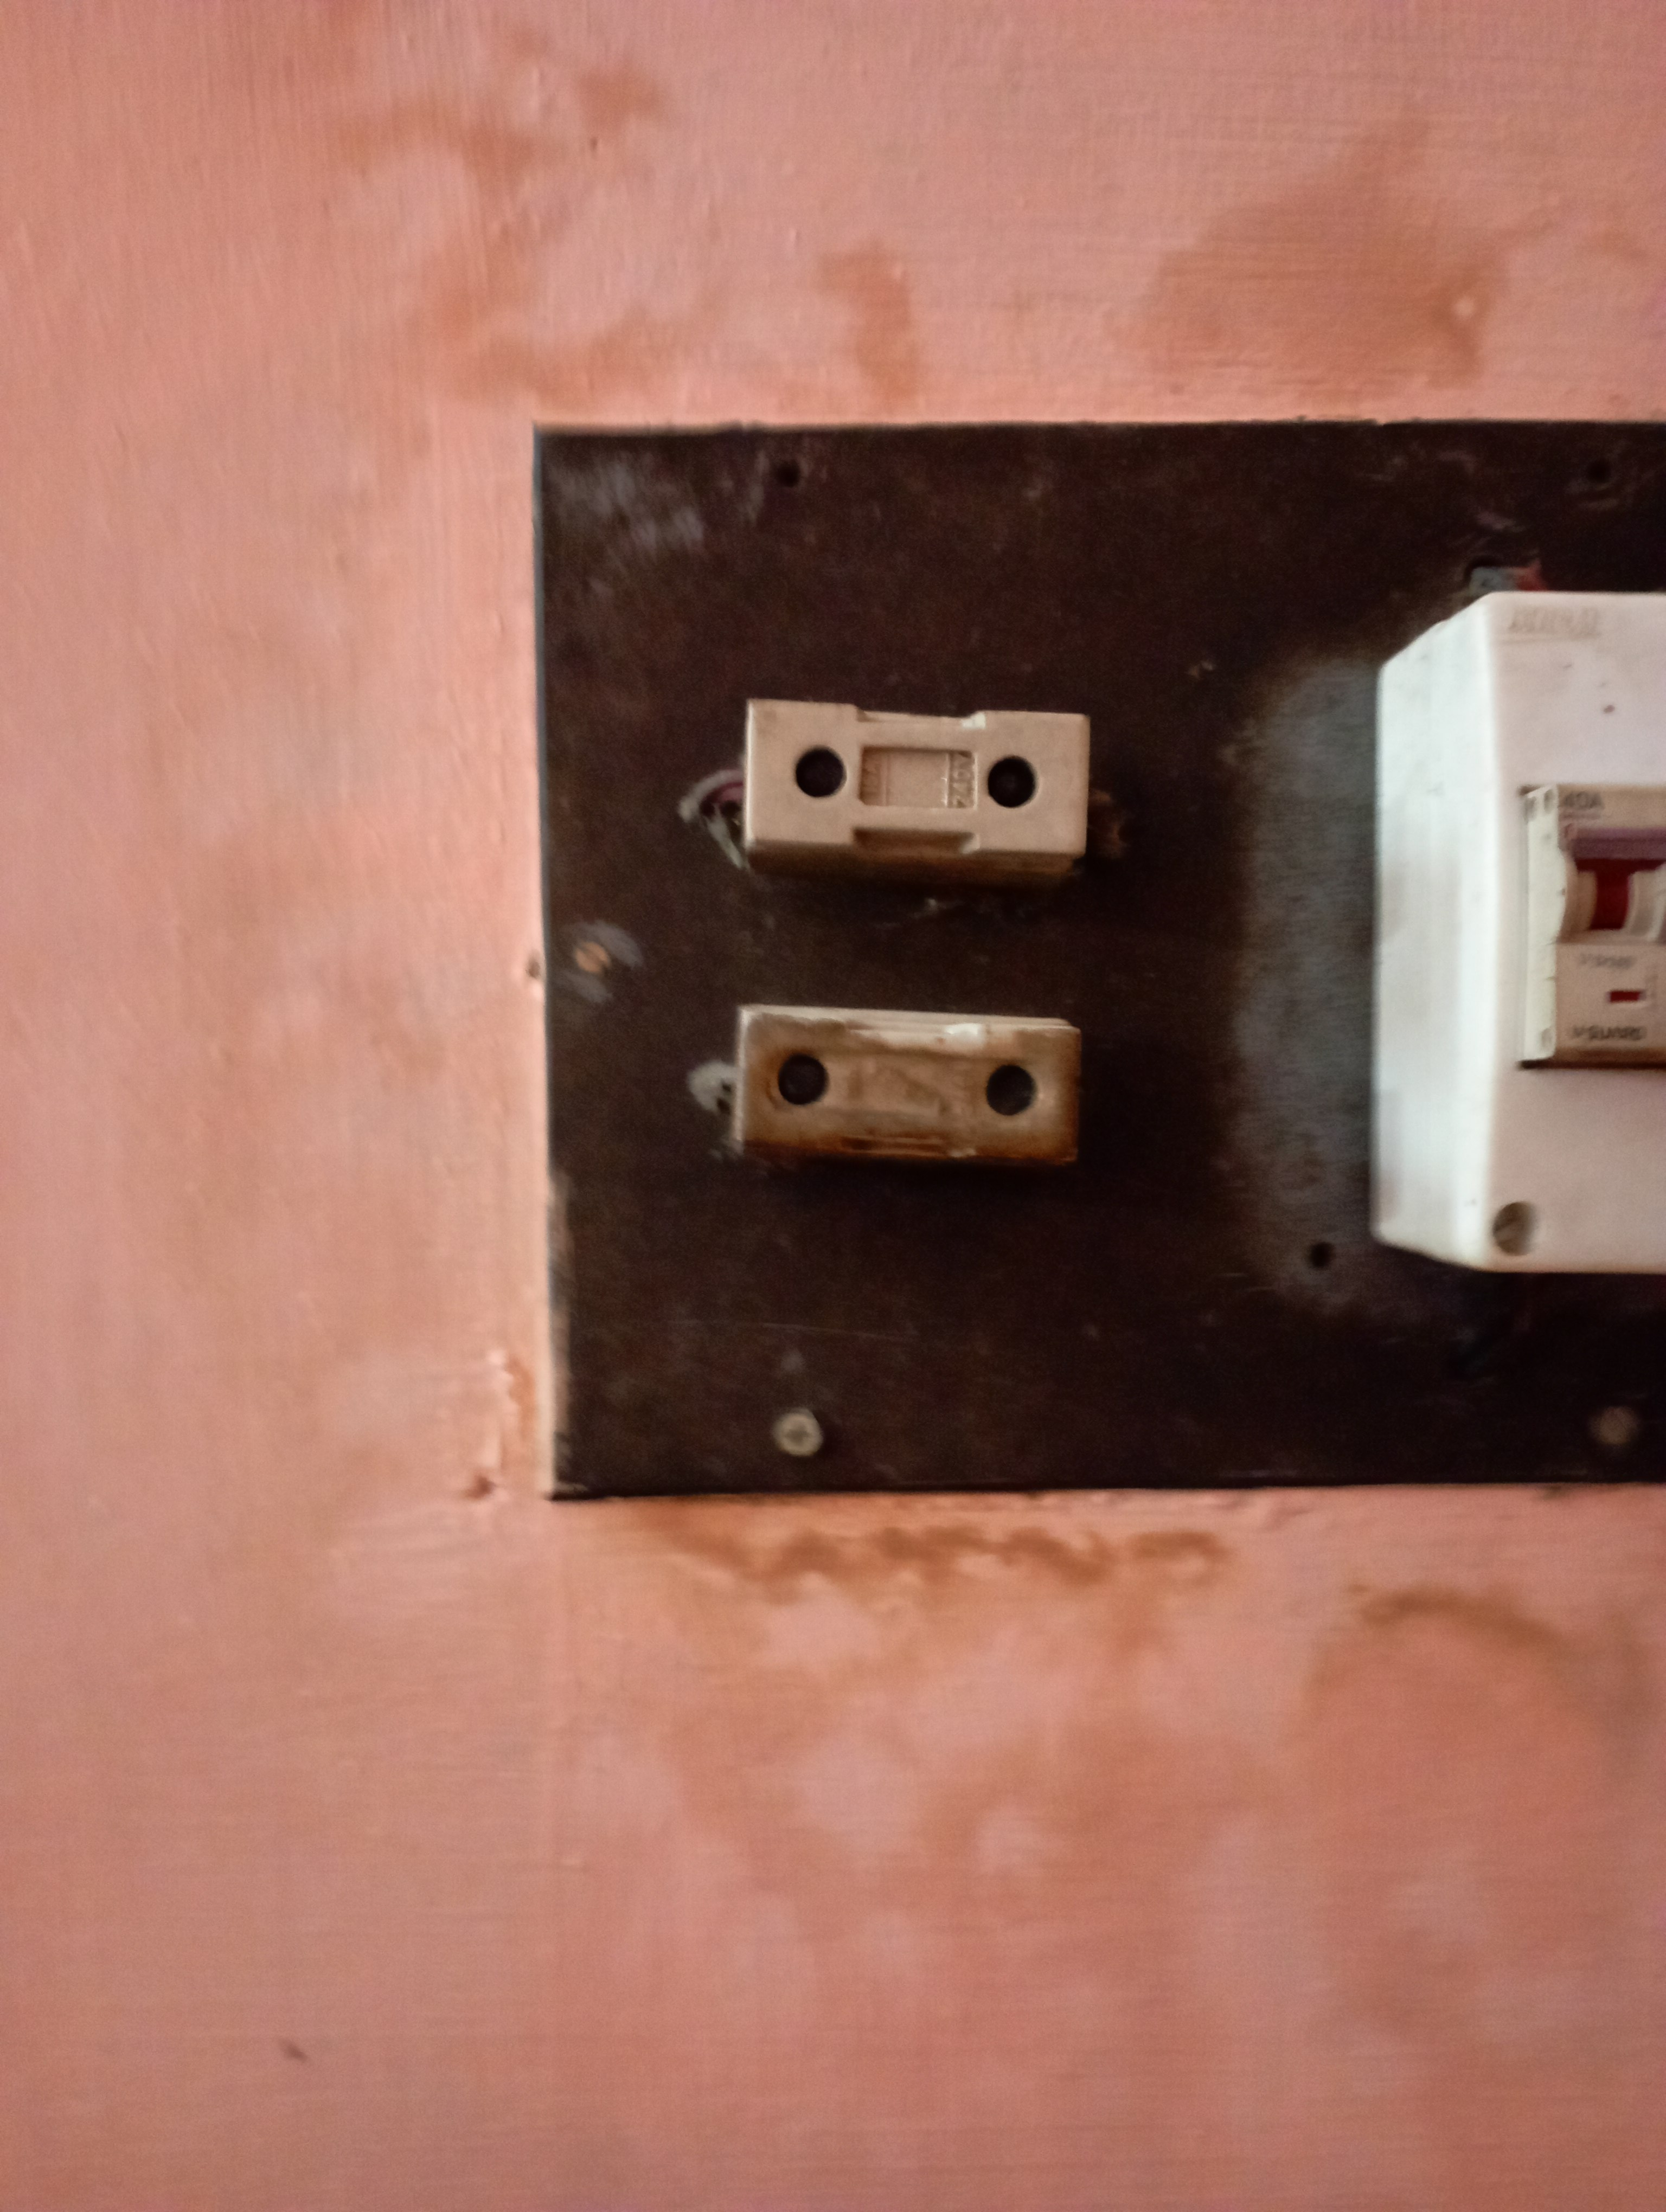ciruit_breaker: (1353, 577, 1666, 1290)
fuse: (705, 974, 1132, 1200), (670, 661, 1102, 876)
